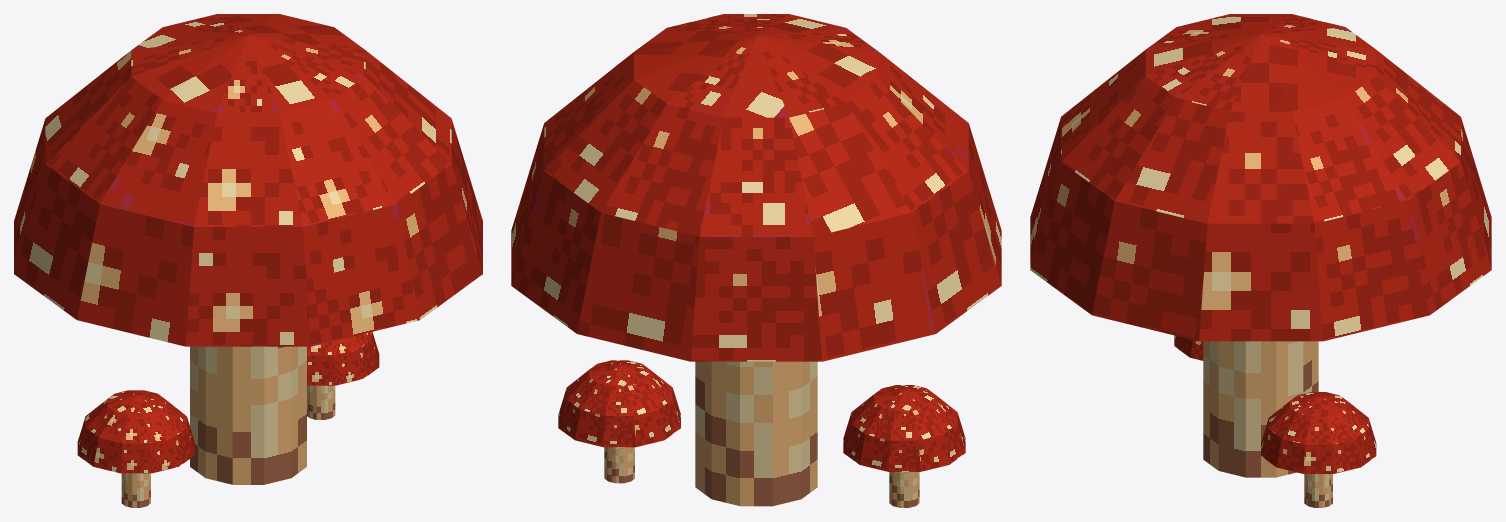
The model's file is Mushroom.fbx.
3 views of the same model, side by side, from view 1: azimuth 30°, elevation 25°; view 2: azimuth 150°, elevation 25°; view 3: azimuth 270°, elevation 25° (orthographic). The views are drawn at different scales.
Visible parts, largest first — view 1: Big Mushroom, Small Mushroom, Small Mushroom_1; view 2: Big Mushroom, Small Mushroom_1, Small Mushroom; view 3: Big Mushroom, Small Mushroom_1, Small Mushroom.
Part boxes in pixels (x1,y1,x2,y2): Big Mushroom: (14, 14, 482, 484); Small Mushroom: (77, 390, 194, 507); Small Mushroom_1: (307, 332, 379, 419); Big Mushroom: (511, 14, 1001, 506); Small Mushroom_1: (558, 360, 680, 483); Small Mushroom: (843, 385, 965, 507); Big Mushroom: (1030, 14, 1491, 477); Small Mushroom_1: (1261, 392, 1376, 507); Small Mushroom: (1174, 335, 1203, 360).
Size of the model in its own units: 100 by 100 by 100.
1 material, 1 textured.
